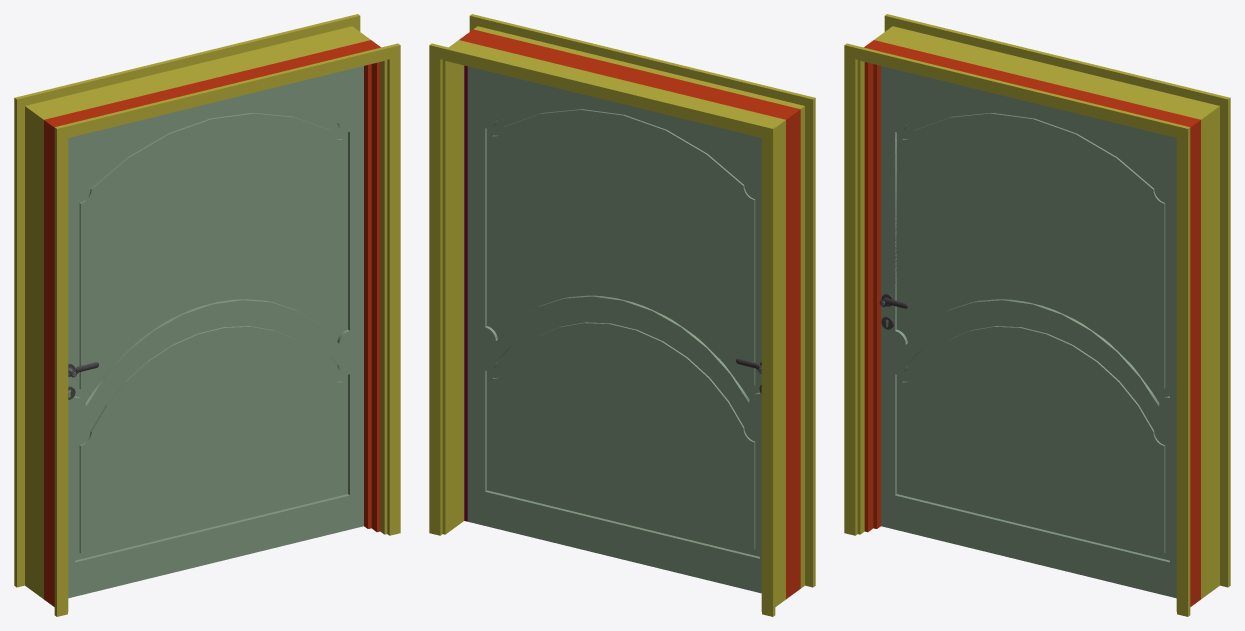
The model's file is Door3.obj.
3 views of the same model, side by side, from view 1: azimuth 30°, elevation 25°; view 2: azimuth 150°, elevation 25°; view 3: azimuth 330°, elevation 25° (orthographic).
Parts seen in each view (by area): view 1: DOOR GROUND_FLOOR PAINT_-_CELADON FLAT_PART, DOOR GROUND_FLOOR PAINT_-_LEAD_OXIDE_YELLOW, DOOR GROUND_FLOOR PAINT_-_CADMIUM_ORANGE, DOOR GROUND_FLOOR PAINT_-_CELADON SMOOTH_PART; view 2: DOOR GROUND_FLOOR PAINT_-_CELADON FLAT_PART, DOOR GROUND_FLOOR PAINT_-_LEAD_OXIDE_YELLOW, DOOR GROUND_FLOOR PAINT_-_CADMIUM_ORANGE, DOOR GROUND_FLOOR PAINT_-_BORDEAUX, DOOR GROUND_FLOOR PAINT_-_CELADON SMOOTH_PART; view 3: DOOR GROUND_FLOOR PAINT_-_CELADON FLAT_PART, DOOR GROUND_FLOOR PAINT_-_LEAD_OXIDE_YELLOW, DOOR GROUND_FLOOR PAINT_-_CADMIUM_ORANGE, DOOR GROUND_FLOOR PAINT_-_CELADON SMOOTH_PART.
Part boxes in pixels (box(x1,y1,x2,y2)): DOOR GROUND_FLOOR PAINT_-_CELADON FLAT_PART: box(68, 66, 363, 598); DOOR GROUND_FLOOR PAINT_-_LEAD_OXIDE_YELLOW: box(14, 14, 400, 616); DOOR GROUND_FLOOR PAINT_-_CADMIUM_ORANGE: box(44, 40, 380, 606); DOOR GROUND_FLOOR PAINT_-_CELADON SMOOTH_PART: box(75, 122, 341, 406); DOOR GROUND_FLOOR PAINT_-_CELADON FLAT_PART: box(467, 66, 761, 593); DOOR GROUND_FLOOR PAINT_-_LEAD_OXIDE_YELLOW: box(429, 14, 815, 616); DOOR GROUND_FLOOR PAINT_-_CADMIUM_ORANGE: box(459, 29, 800, 599); DOOR GROUND_FLOOR PAINT_-_BORDEAUX: box(464, 65, 467, 521); DOOR GROUND_FLOOR PAINT_-_CELADON SMOOTH_PART: box(493, 119, 759, 402); DOOR GROUND_FLOOR PAINT_-_CELADON FLAT_PART: box(881, 66, 1176, 598); DOOR GROUND_FLOOR PAINT_-_LEAD_OXIDE_YELLOW: box(844, 14, 1230, 616); DOOR GROUND_FLOOR PAINT_-_CADMIUM_ORANGE: box(864, 40, 1200, 606); DOOR GROUND_FLOOR PAINT_-_CELADON SMOOTH_PART: box(895, 122, 1159, 406).
Bounding box in the file's own units: 1.57 × 2.14 × 0.338.
